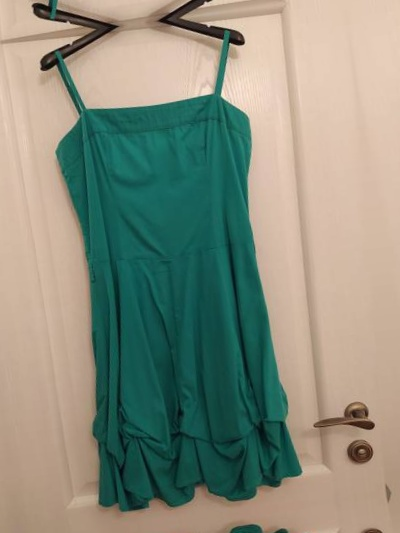Dress: (9, 29, 351, 527), (74, 508, 400, 533), (0, 0, 281, 16)
